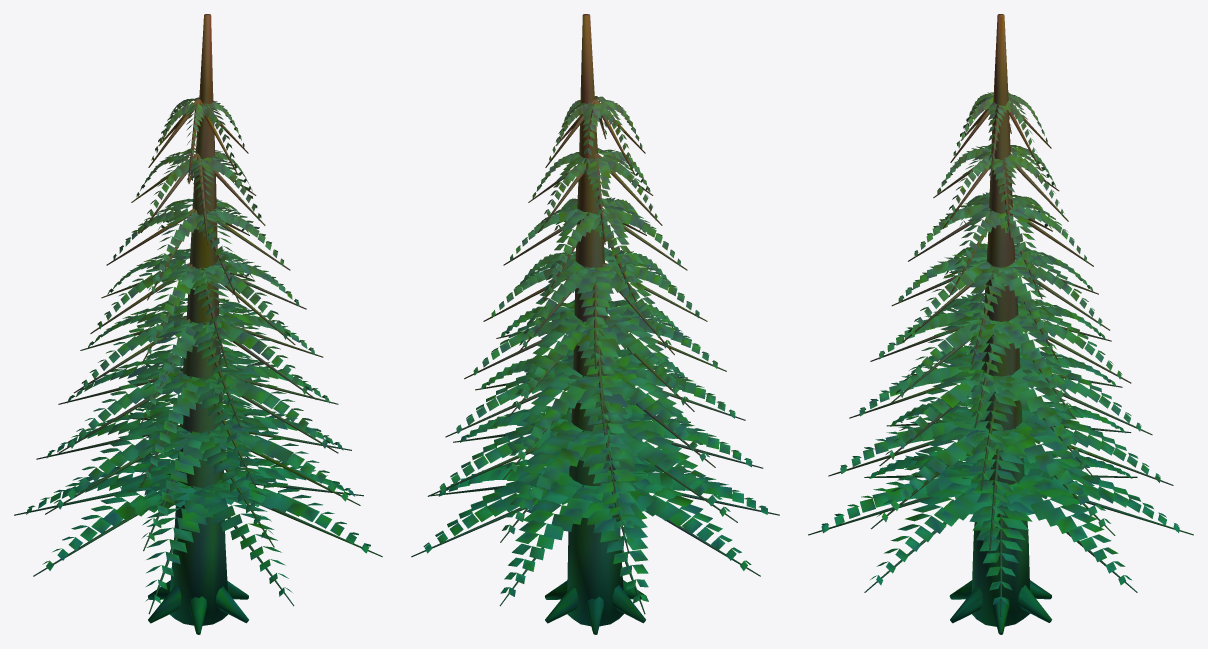
Rendered from Pine_B.fbx.
3 renders of one model, left to right at view 1: azimuth 30°, elevation 25°; view 2: azimuth 150°, elevation 25°; view 3: azimuth 270°, elevation 25°, orthographic.
Visible parts, largest first — view 1: Pine_B; view 2: Pine_B; view 3: Pine_B.
Part boxes in pixels (x1,y1,x2,y2): Pine_B: [14, 14, 382, 634]; Pine_B: [411, 14, 779, 634]; Pine_B: [808, 14, 1193, 634].
Bounding box in the file's own units: 1.28 × 2.2 × 1.28.
